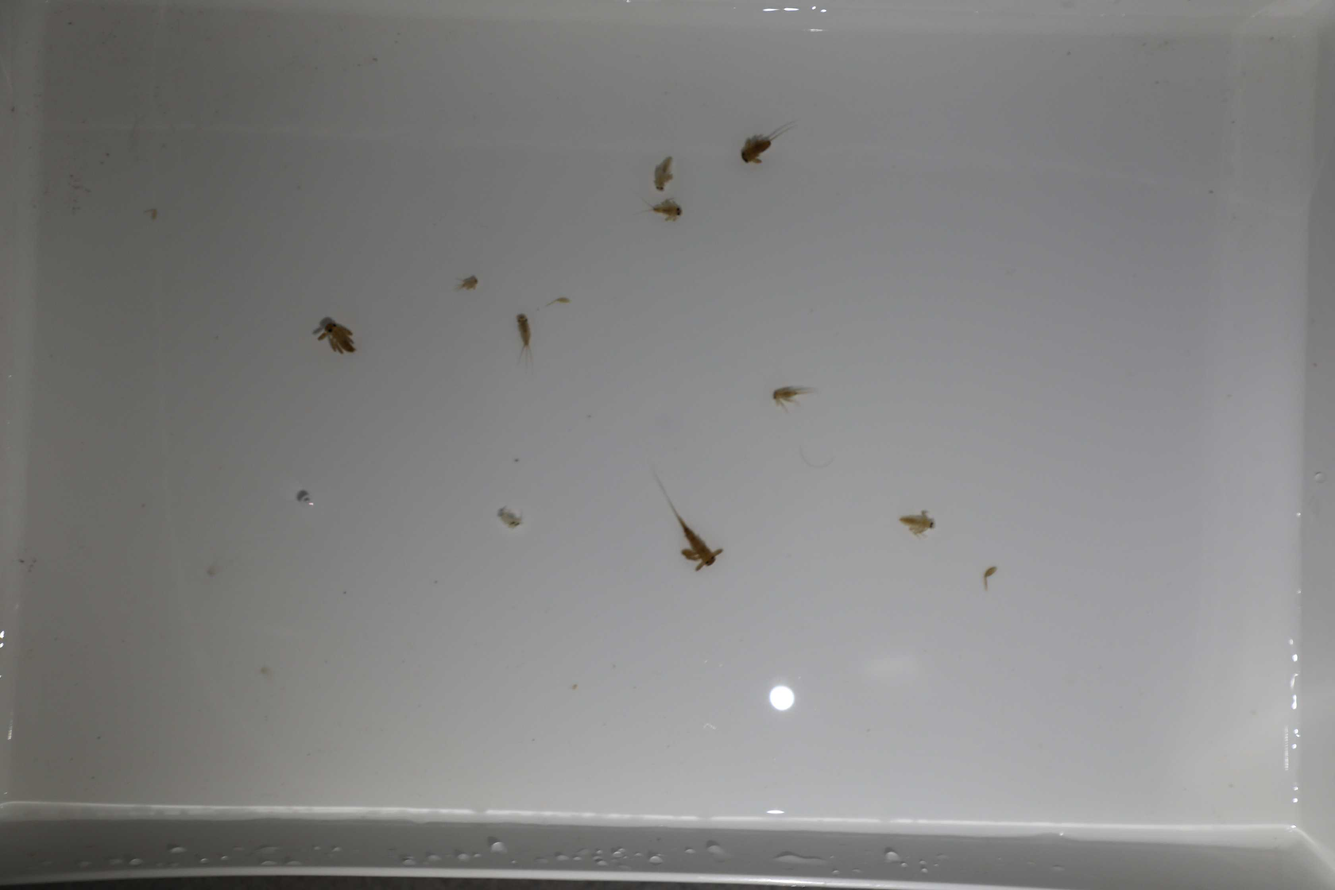Mayfly: (649, 464, 723, 576), (736, 124, 796, 168), (310, 317, 362, 360), (765, 380, 829, 411), (892, 502, 940, 537), (644, 188, 689, 223), (514, 312, 538, 367), (651, 149, 675, 201), (489, 504, 527, 528), (446, 269, 482, 294)
